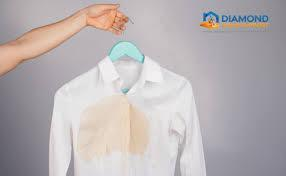coffee: (87, 108, 144, 151)
